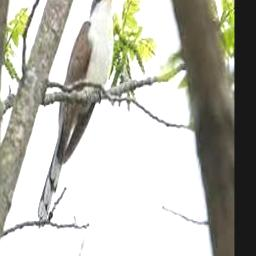Cuckoo: (38, 0, 123, 221)
